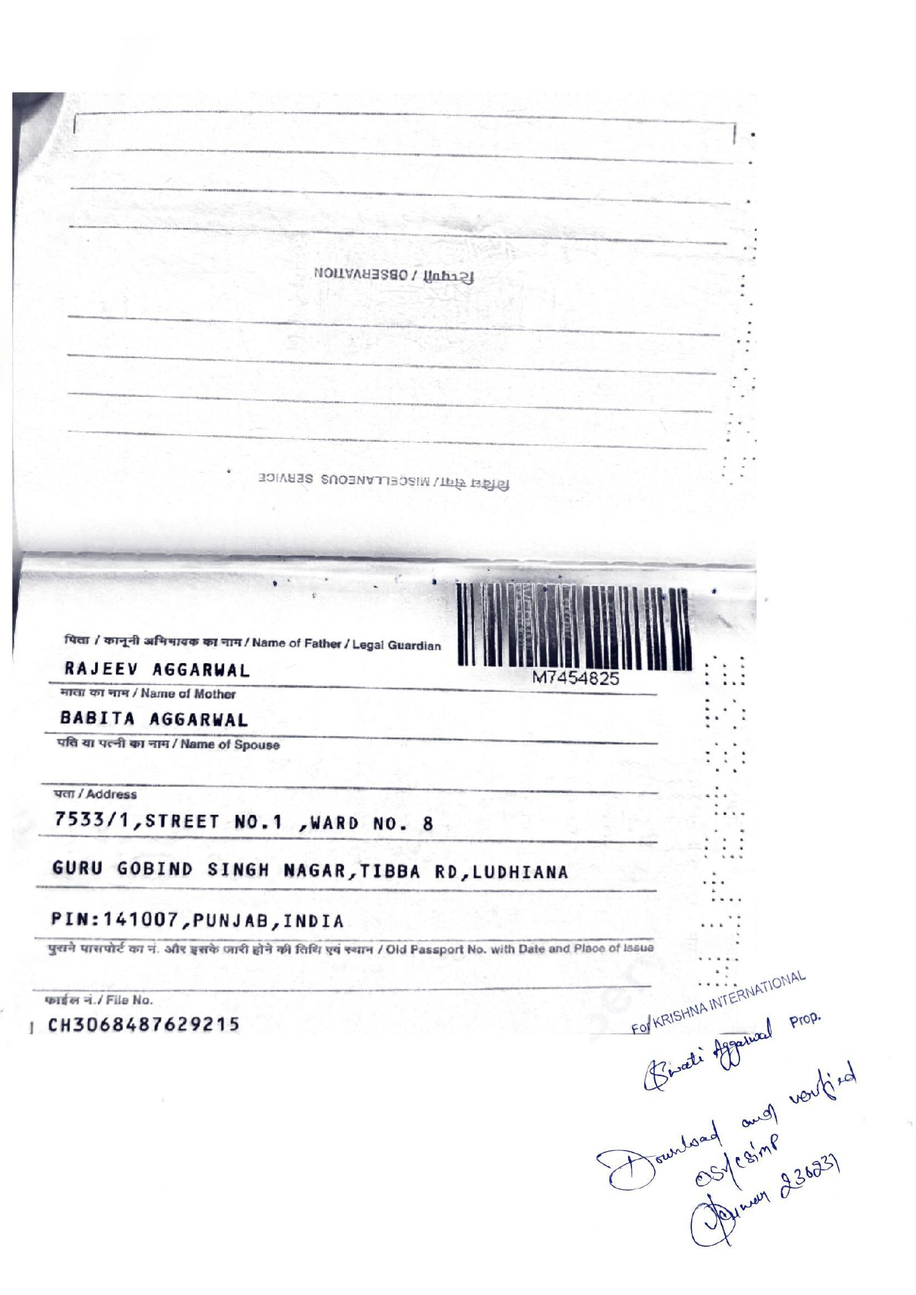File_no: (42, 1005, 252, 1048)
address: (38, 788, 585, 938)
father_name: (51, 647, 260, 689)
mother_name: (53, 706, 269, 739)
passport_no: (523, 659, 632, 698)
